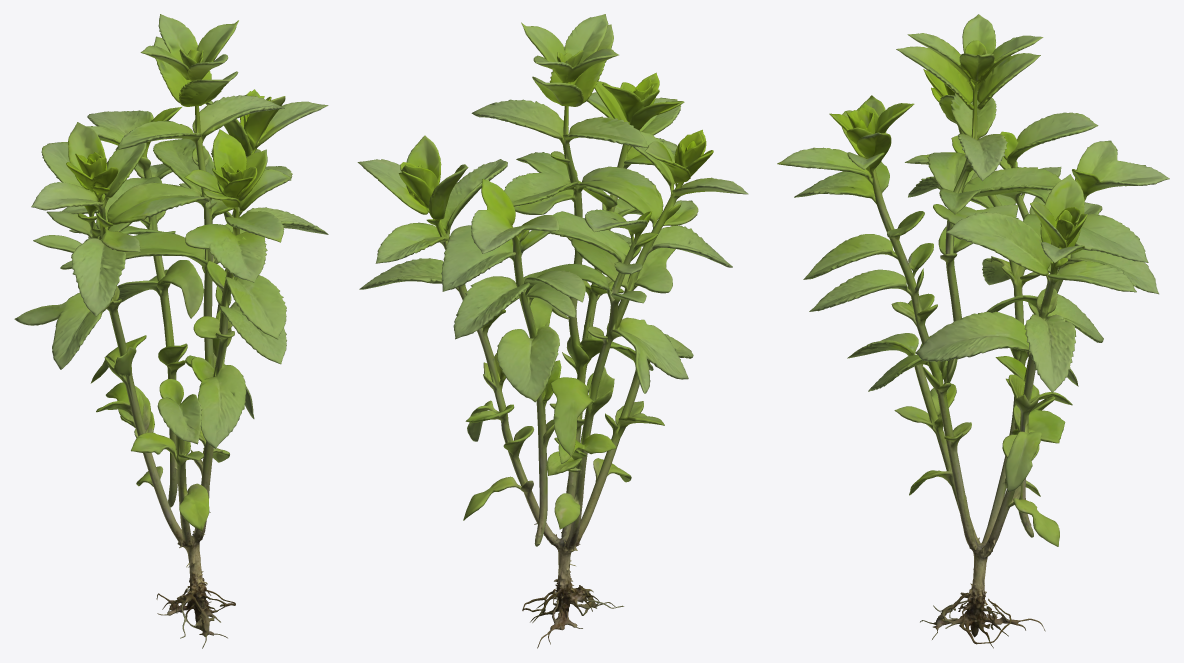
Rendered from bohe.glb.
3 views of the same model, side by side, from view 1: azimuth 30°, elevation 25°; view 2: azimuth 150°, elevation 25°; view 3: azimuth 270°, elevation 25° (orthographic).
Parts seen in each view (by area): view 1: node_0; view 2: node_0; view 3: node_0.
Part boxes in pixels (left/top/right/bottom): node_0: left=14, top=14, right=328, bottom=648; node_0: left=357, top=14, right=748, bottom=648; node_0: left=777, top=14, right=1169, bottom=648.
Size of the model in its own units: 0.7174 by 1.18 by 0.6966.
1 material, 1 textured.
